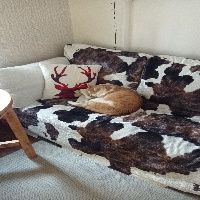asleep: (68, 83, 143, 115)
